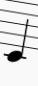LC: (3, 1, 30, 65)
